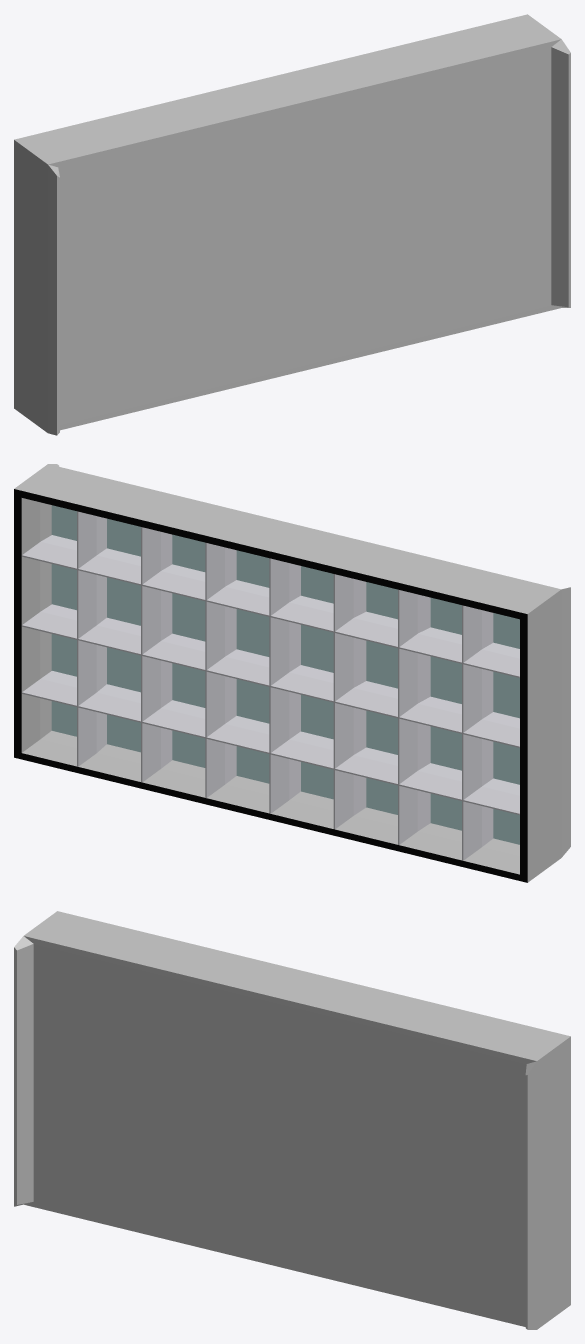
File: RecessedFlourescent.obj
3 renders of one model, top to bottom at view 1: azimuth 30°, elevation 25°; view 2: azimuth 150°, elevation 25°; view 3: azimuth 330°, elevation 25°, orthographic.
Parts seen in each view (by area): view 1: A01_lightGeometry; view 2: A01_lightGeometry; view 3: A01_lightGeometry.
Part boxes in pixels (box(x1,y1,x2,y2)): A01_lightGeometry: box(14, 14, 570, 435); A01_lightGeometry: box(14, 464, 570, 882); A01_lightGeometry: box(14, 911, 570, 1329).
Bounding box in the file's own units: 1.22 × 0.6096 × 0.1778.
